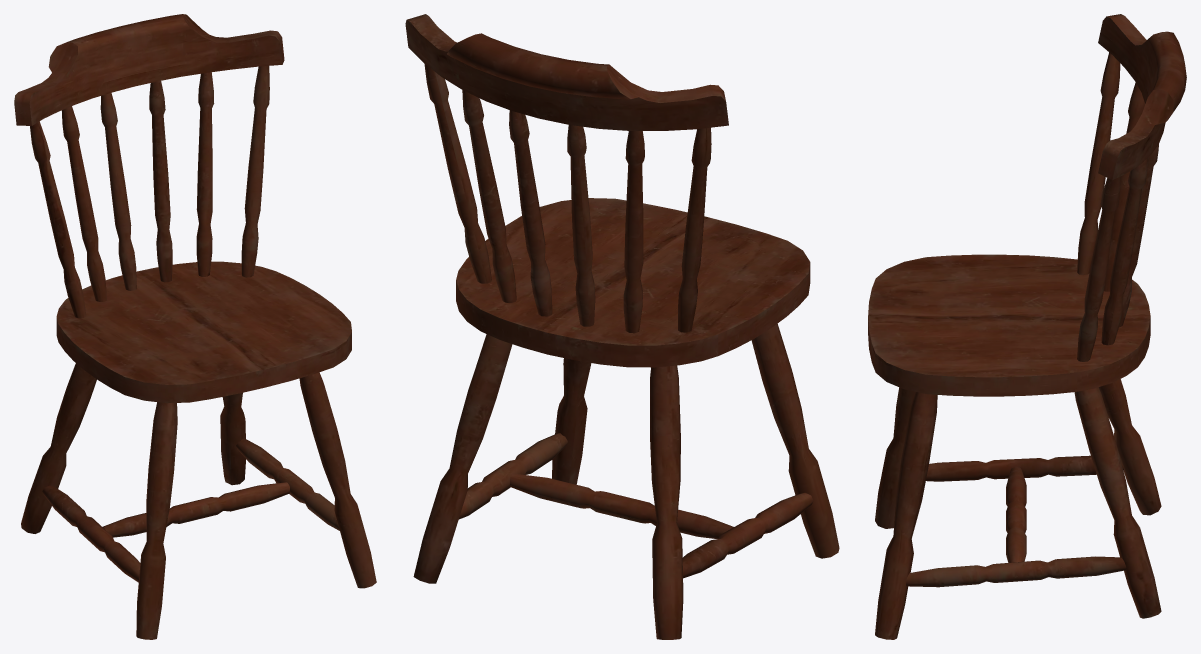
The model's file is chair-transformed.glb.
3 renders of one model, left to right at view 1: azimuth 30°, elevation 25°; view 2: azimuth 150°, elevation 25°; view 3: azimuth 270°, elevation 25°, orthographic. The views are drawn at different scales.
Visible parts, largest first — view 1: Object_3; view 2: Object_3; view 3: Object_3.
Part boxes in pixels (x1,y1,x2,y2): Object_3: [14, 14, 376, 639]; Object_3: [405, 14, 839, 639]; Object_3: [868, 14, 1186, 639].
Size of the model in its own units: 0.5515 by 0.9624 by 0.5332.
1 material, 1 textured.
